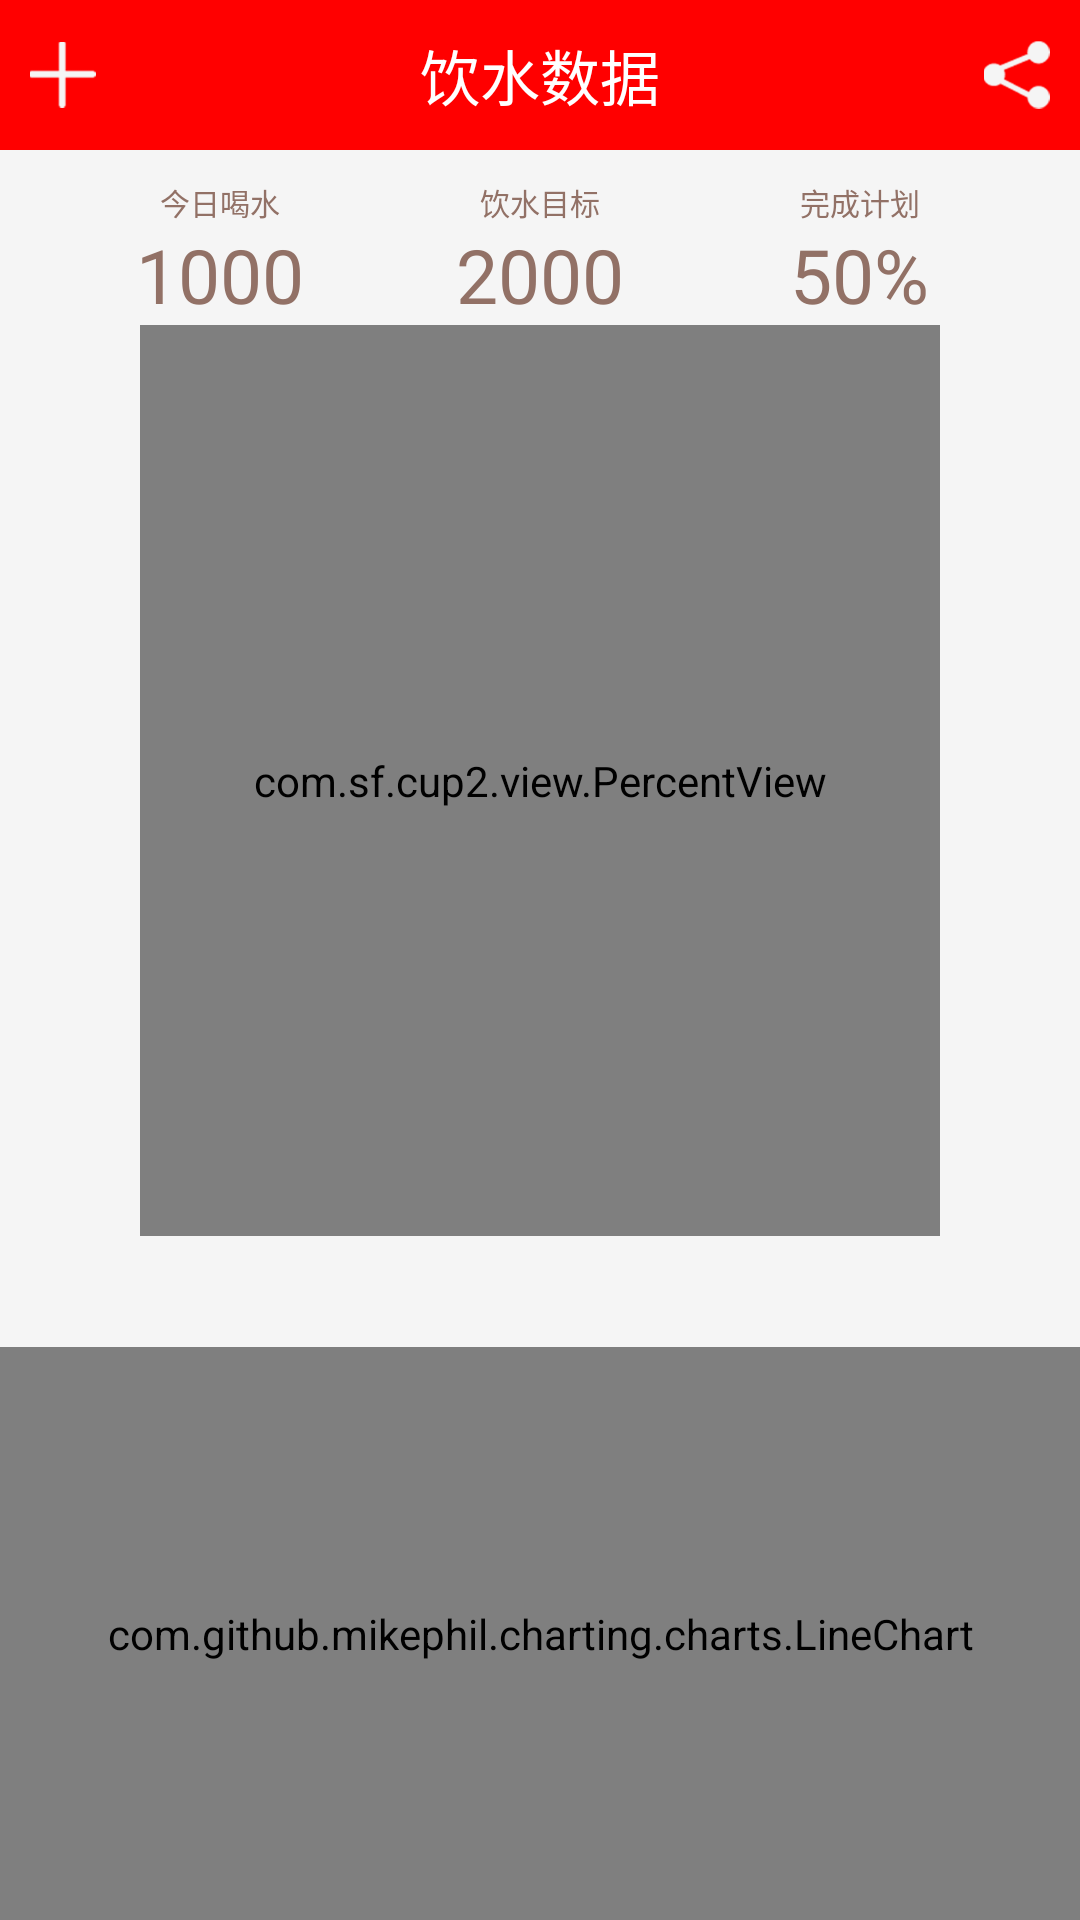

Where icons sit on this 1080*1920 app screen, as (x1, y1, x2, y2):
add: (30, 42, 96, 108)
share: (984, 41, 1050, 109)
